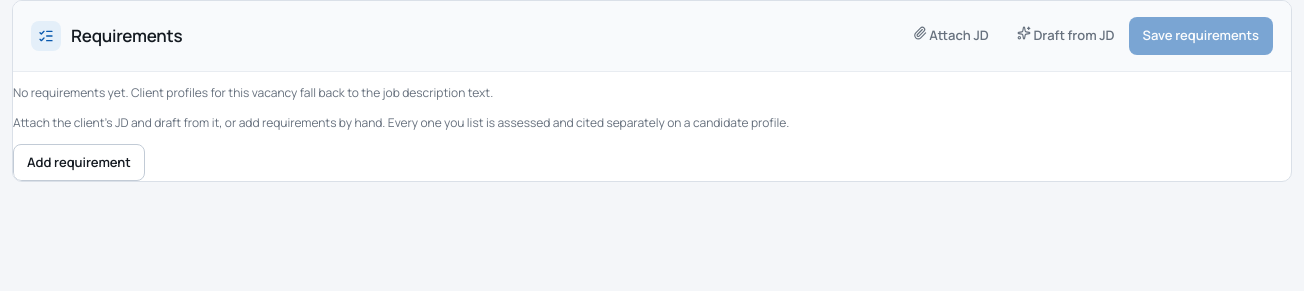
Test case: JobRequirementsPanel › never writes what the model drafted
What coordinates should you click on to do the following:
click the button "Draft from JD"
I would click on:
 (1066, 36)
Its box is [1003,17,1129,54].
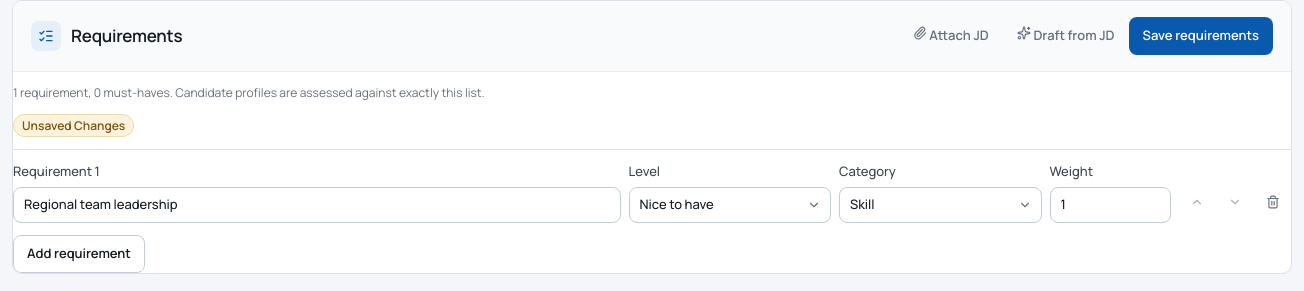
Now the field showing "Regional team leadership" is shown, box [13,187,620,223]
Now the text "Unsaved changes" is shown, box [13,114,134,137]
